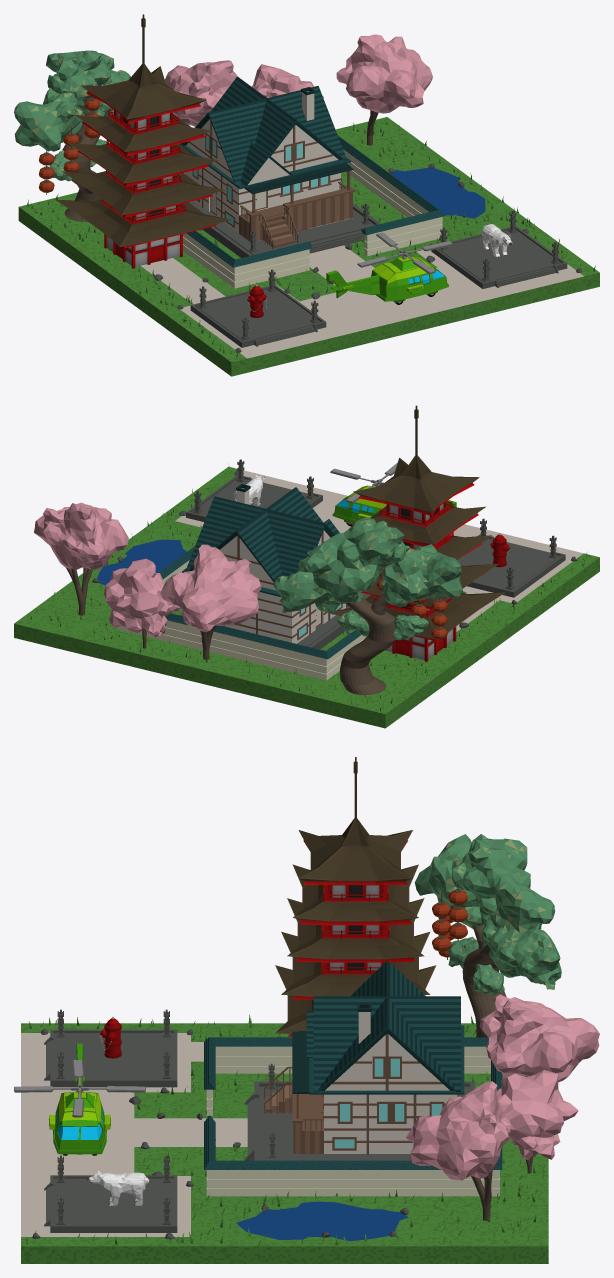
The picture shows the model from 3 angles, top to bottom: view 1: azimuth 30°, elevation 25°; view 2: azimuth 150°, elevation 25°; view 3: azimuth 270°, elevation 25°; orthographic projection. The views are drawn at different scales.
Visible parts, largest first — view 1: Cube.005, Cube.793, VEHICLES_HELICOPTER, ANIMAL_OSO_POLAR; view 2: Cube.005, Cube.793, VEHICLES_HELICOPTER, OBJRANDOM_FIRE_HYDRANT; view 3: Cube.005, Cube.793, VEHICLES_HELICOPTER, ANIMAL_OSO_POLAR, OBJRANDOM_FIRE_HYDRANT.
Boxes of the visible parts, box(x1,y1,x2,y2) form: Cube.005: box(14, 14, 599, 376); Cube.793: box(179, 76, 355, 248); VEHICLES_HELICOPTER: box(326, 232, 452, 304); ANIMAL_OSO_POLAR: box(482, 224, 512, 257); Cube.005: box(14, 405, 599, 728); Cube.793: box(182, 484, 347, 643); VEHICLES_HELICOPTER: box(330, 463, 456, 526); OBJRANDOM_FIRE_HYDRANT: box(490, 533, 509, 567); Cube.005: box(21, 757, 599, 1263); Cube.793: box(264, 961, 464, 1154); VEHICLES_HELICOPTER: box(14, 1043, 145, 1155); ANIMAL_OSO_POLAR: box(86, 1171, 148, 1205); OBJRANDOM_FIRE_HYDRANT: box(100, 1017, 121, 1058).
Bounding box in the file's own units: 4528 × 2690 × 4442.
Materials: 39 (6 with a texture image).
